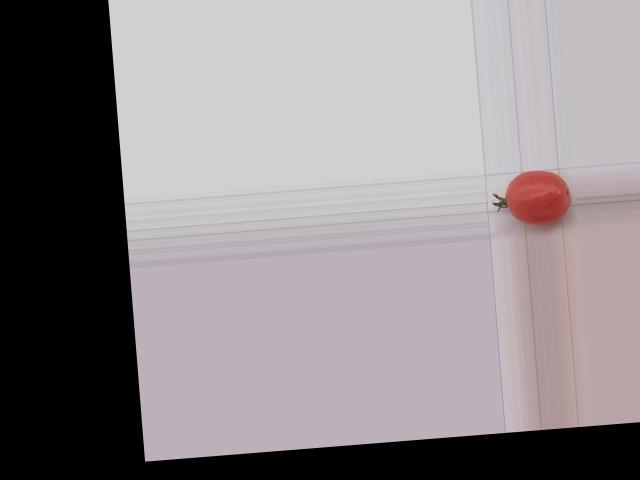tomato: (503, 167, 572, 226)
